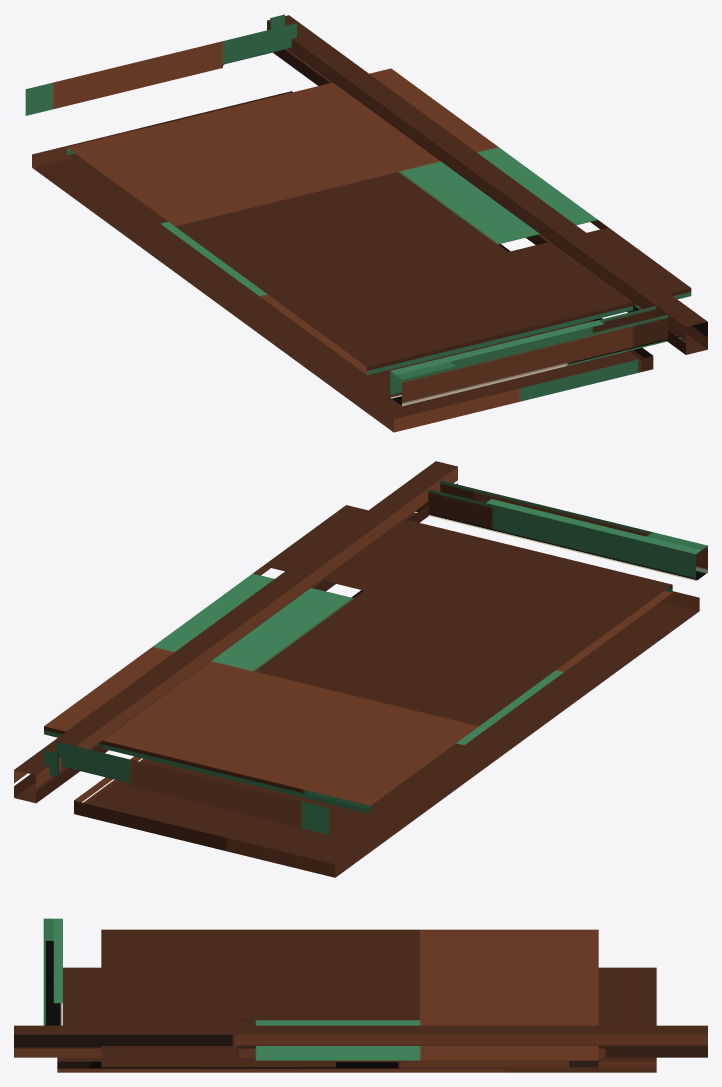
Rendered from section-1.obj.
The picture shows the model from 3 angles, top to bottom: view 1: azimuth 30°, elevation 25°; view 2: azimuth 150°, elevation 25°; view 3: azimuth 270°, elevation 25°; orthographic projection. The views are drawn at different scales.
Bounding box in the file's own units: 0.684 × 0.1491 × 1.53.
